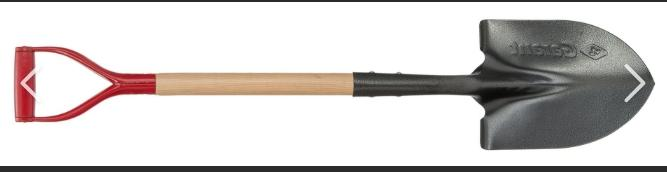PELLE: (0, 2, 667, 172)
